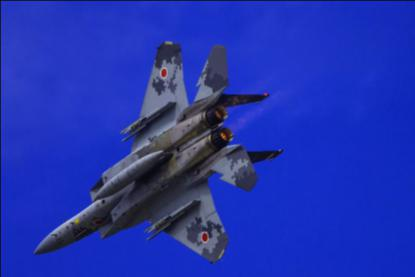F117: (33, 41, 283, 264)
